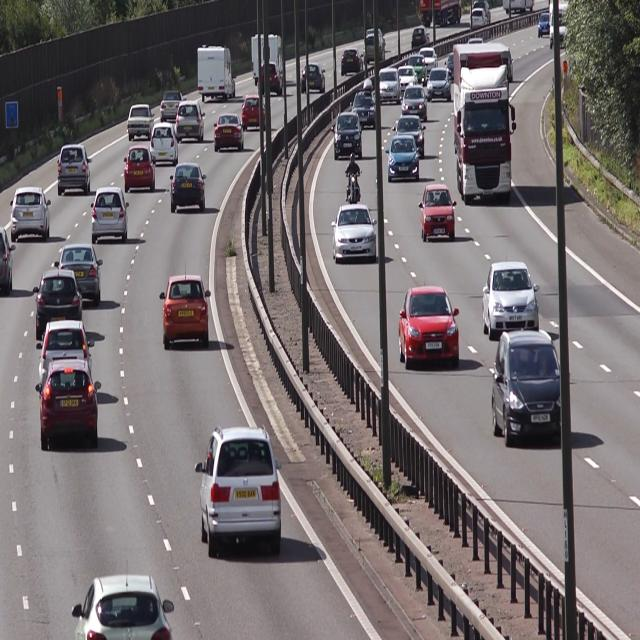Car: (193, 427, 284, 558), (453, 46, 518, 202), (492, 331, 568, 445), (35, 366, 103, 454), (398, 282, 462, 370), (482, 258, 541, 337), (159, 274, 213, 350), (40, 320, 94, 388), (37, 270, 84, 340), (60, 245, 106, 308), (332, 204, 379, 264), (198, 42, 238, 101), (89, 186, 129, 243), (9, 189, 53, 240), (420, 184, 456, 246), (384, 133, 422, 184), (170, 163, 207, 212), (56, 144, 92, 194), (124, 148, 158, 192), (332, 113, 363, 161), (350, 78, 379, 128), (151, 122, 181, 166), (175, 101, 206, 143), (213, 113, 244, 154), (242, 94, 271, 131), (401, 85, 429, 123), (127, 104, 155, 139), (376, 66, 402, 103), (427, 68, 451, 106)
